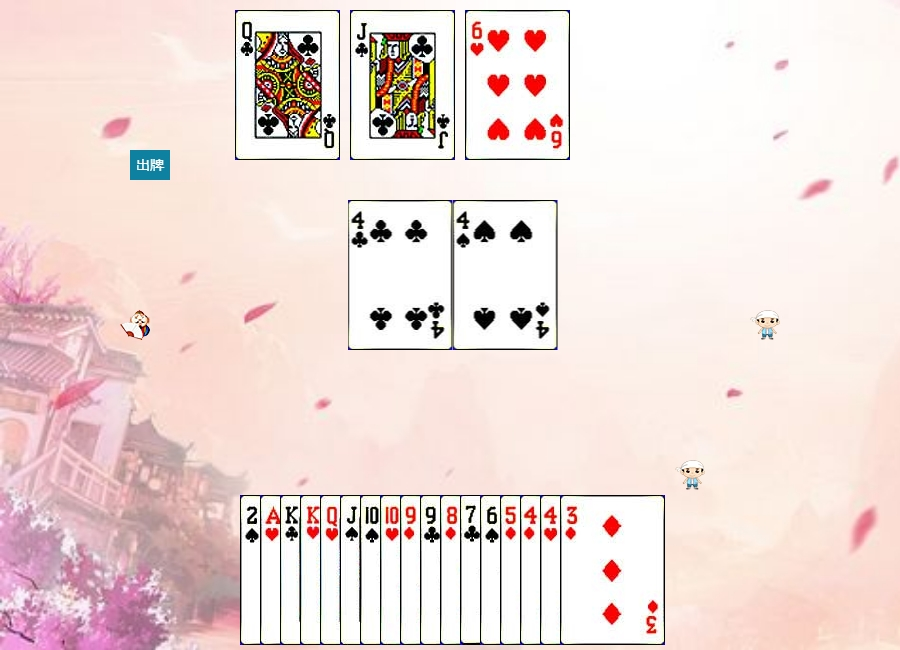10~3: (380, 495, 485, 645)
10~4: (360, 495, 465, 645)
11~2: (350, 10, 455, 160)
11~4: (340, 495, 445, 645)
12~2: (235, 10, 340, 160)
12~3: (320, 495, 425, 645)
13~2: (280, 495, 385, 645)
13~3: (300, 495, 405, 645)
14~3: (260, 495, 365, 645)
15~4: (240, 495, 345, 645)
3~1: (560, 495, 665, 645)
4~1: (520, 495, 625, 645)
4~2: (348, 200, 453, 350)
4~3: (540, 495, 645, 645)
4~4: (453, 200, 558, 350)
5~1: (500, 495, 605, 645)
6~3: (465, 10, 570, 160)
6~4: (480, 495, 585, 645)
7~2: (460, 495, 565, 645)
8~1: (440, 495, 545, 645)
9~1: (400, 495, 505, 645)
9~2: (420, 495, 525, 645)
